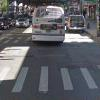Bus: (29, 4, 68, 47)
